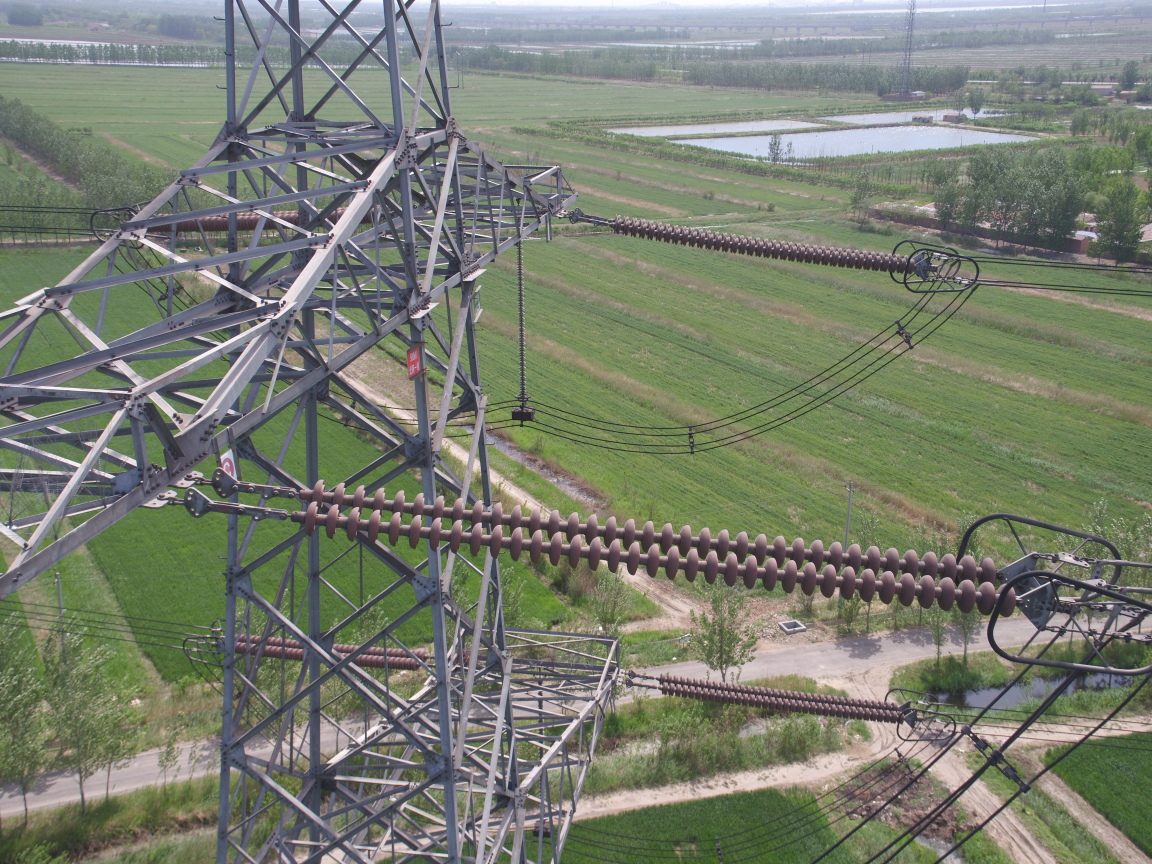insulator: (260, 476, 1034, 620), (592, 212, 922, 277), (644, 672, 912, 725)
